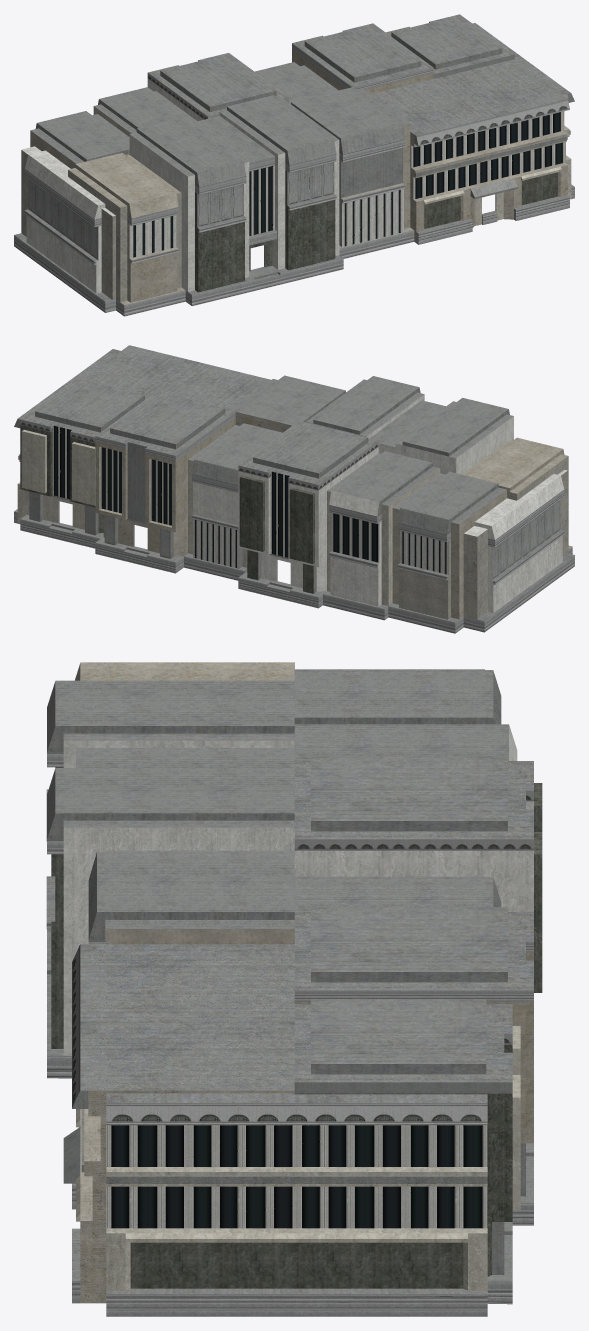
Rendered from thm_corl_imprv_building_block_64x32_s02_r0_exterior_mesh_r0_l0.fbx.
3 renders of one model, top to bottom at view 1: azimuth 30°, elevation 25°; view 2: azimuth 150°, elevation 25°; view 3: azimuth 270°, elevation 25°, orthographic. The views are drawn at different scales.
Visible parts, largest first — view 1: mesh_node; view 2: mesh_node; view 3: mesh_node.
Boxes of the visible parts, x1,y1,x2,y2 form: mesh_node: (14,14,574,316); mesh_node: (14,345,574,633); mesh_node: (46,662,542,1316).
Bounding box in the file's own units: 65.15 × 17.39 × 30.03.
